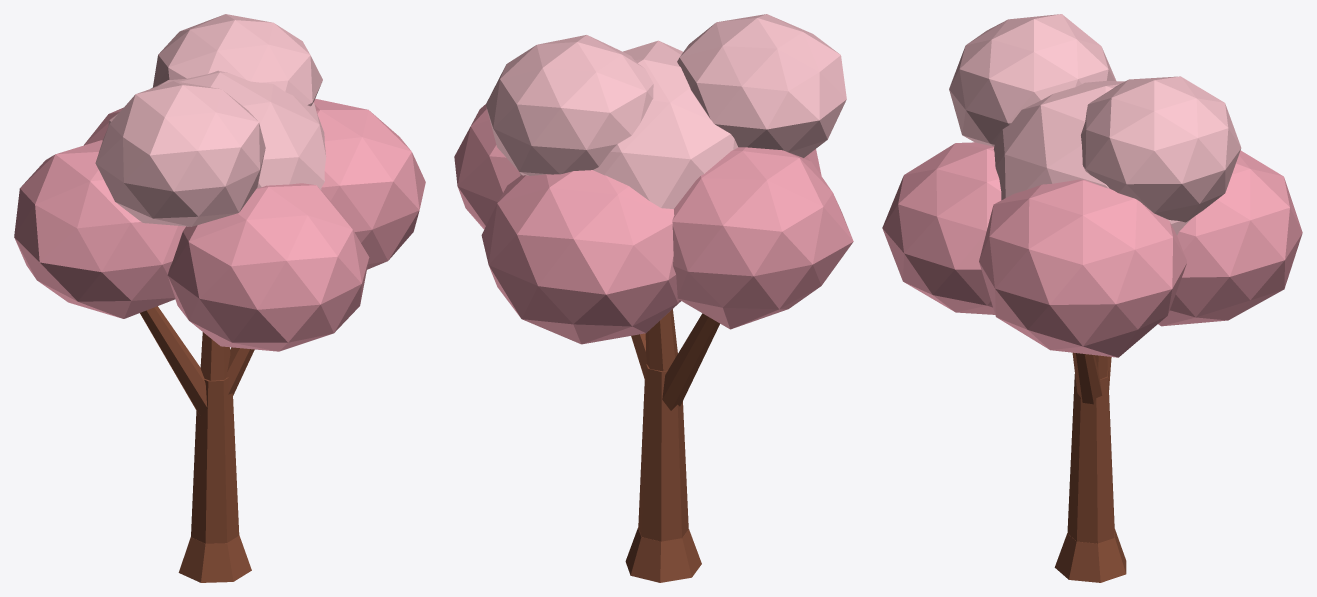
File: Tree_Cherry.glb
The picture shows the model from 3 angles, left to right: view 1: azimuth 30°, elevation 25°; view 2: azimuth 150°, elevation 25°; view 3: azimuth 270°, elevation 25°; orthographic projection. The views are drawn at different scales.
Parts seen in each view (by area): view 1: Tree_Cherry; view 2: Tree_Cherry; view 3: Tree_Cherry.
Boxes of the visible parts, left/top/right/bottom form: Tree_Cherry: left=14, top=14, right=425, bottom=582; Tree_Cherry: left=454, top=14, right=853, bottom=582; Tree_Cherry: left=882, top=14, right=1302, bottom=582.
Bounding box in the file's own units: 3.39 × 4.56 × 3.35.
